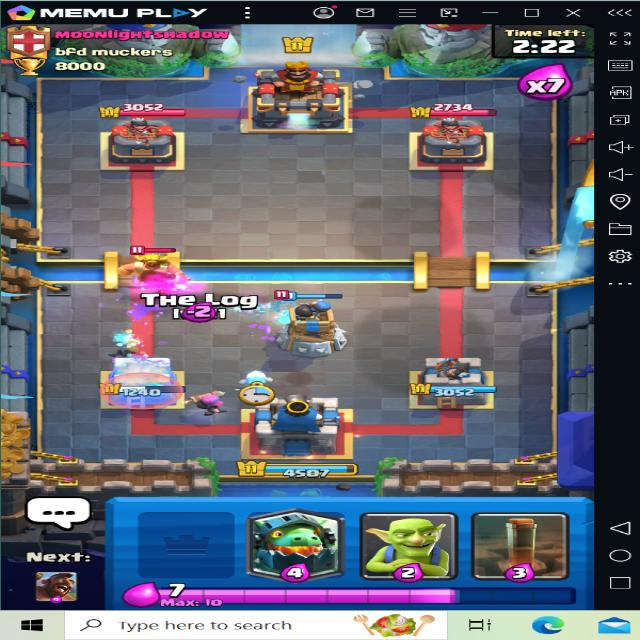Goldenknight: (116, 243, 201, 287)
